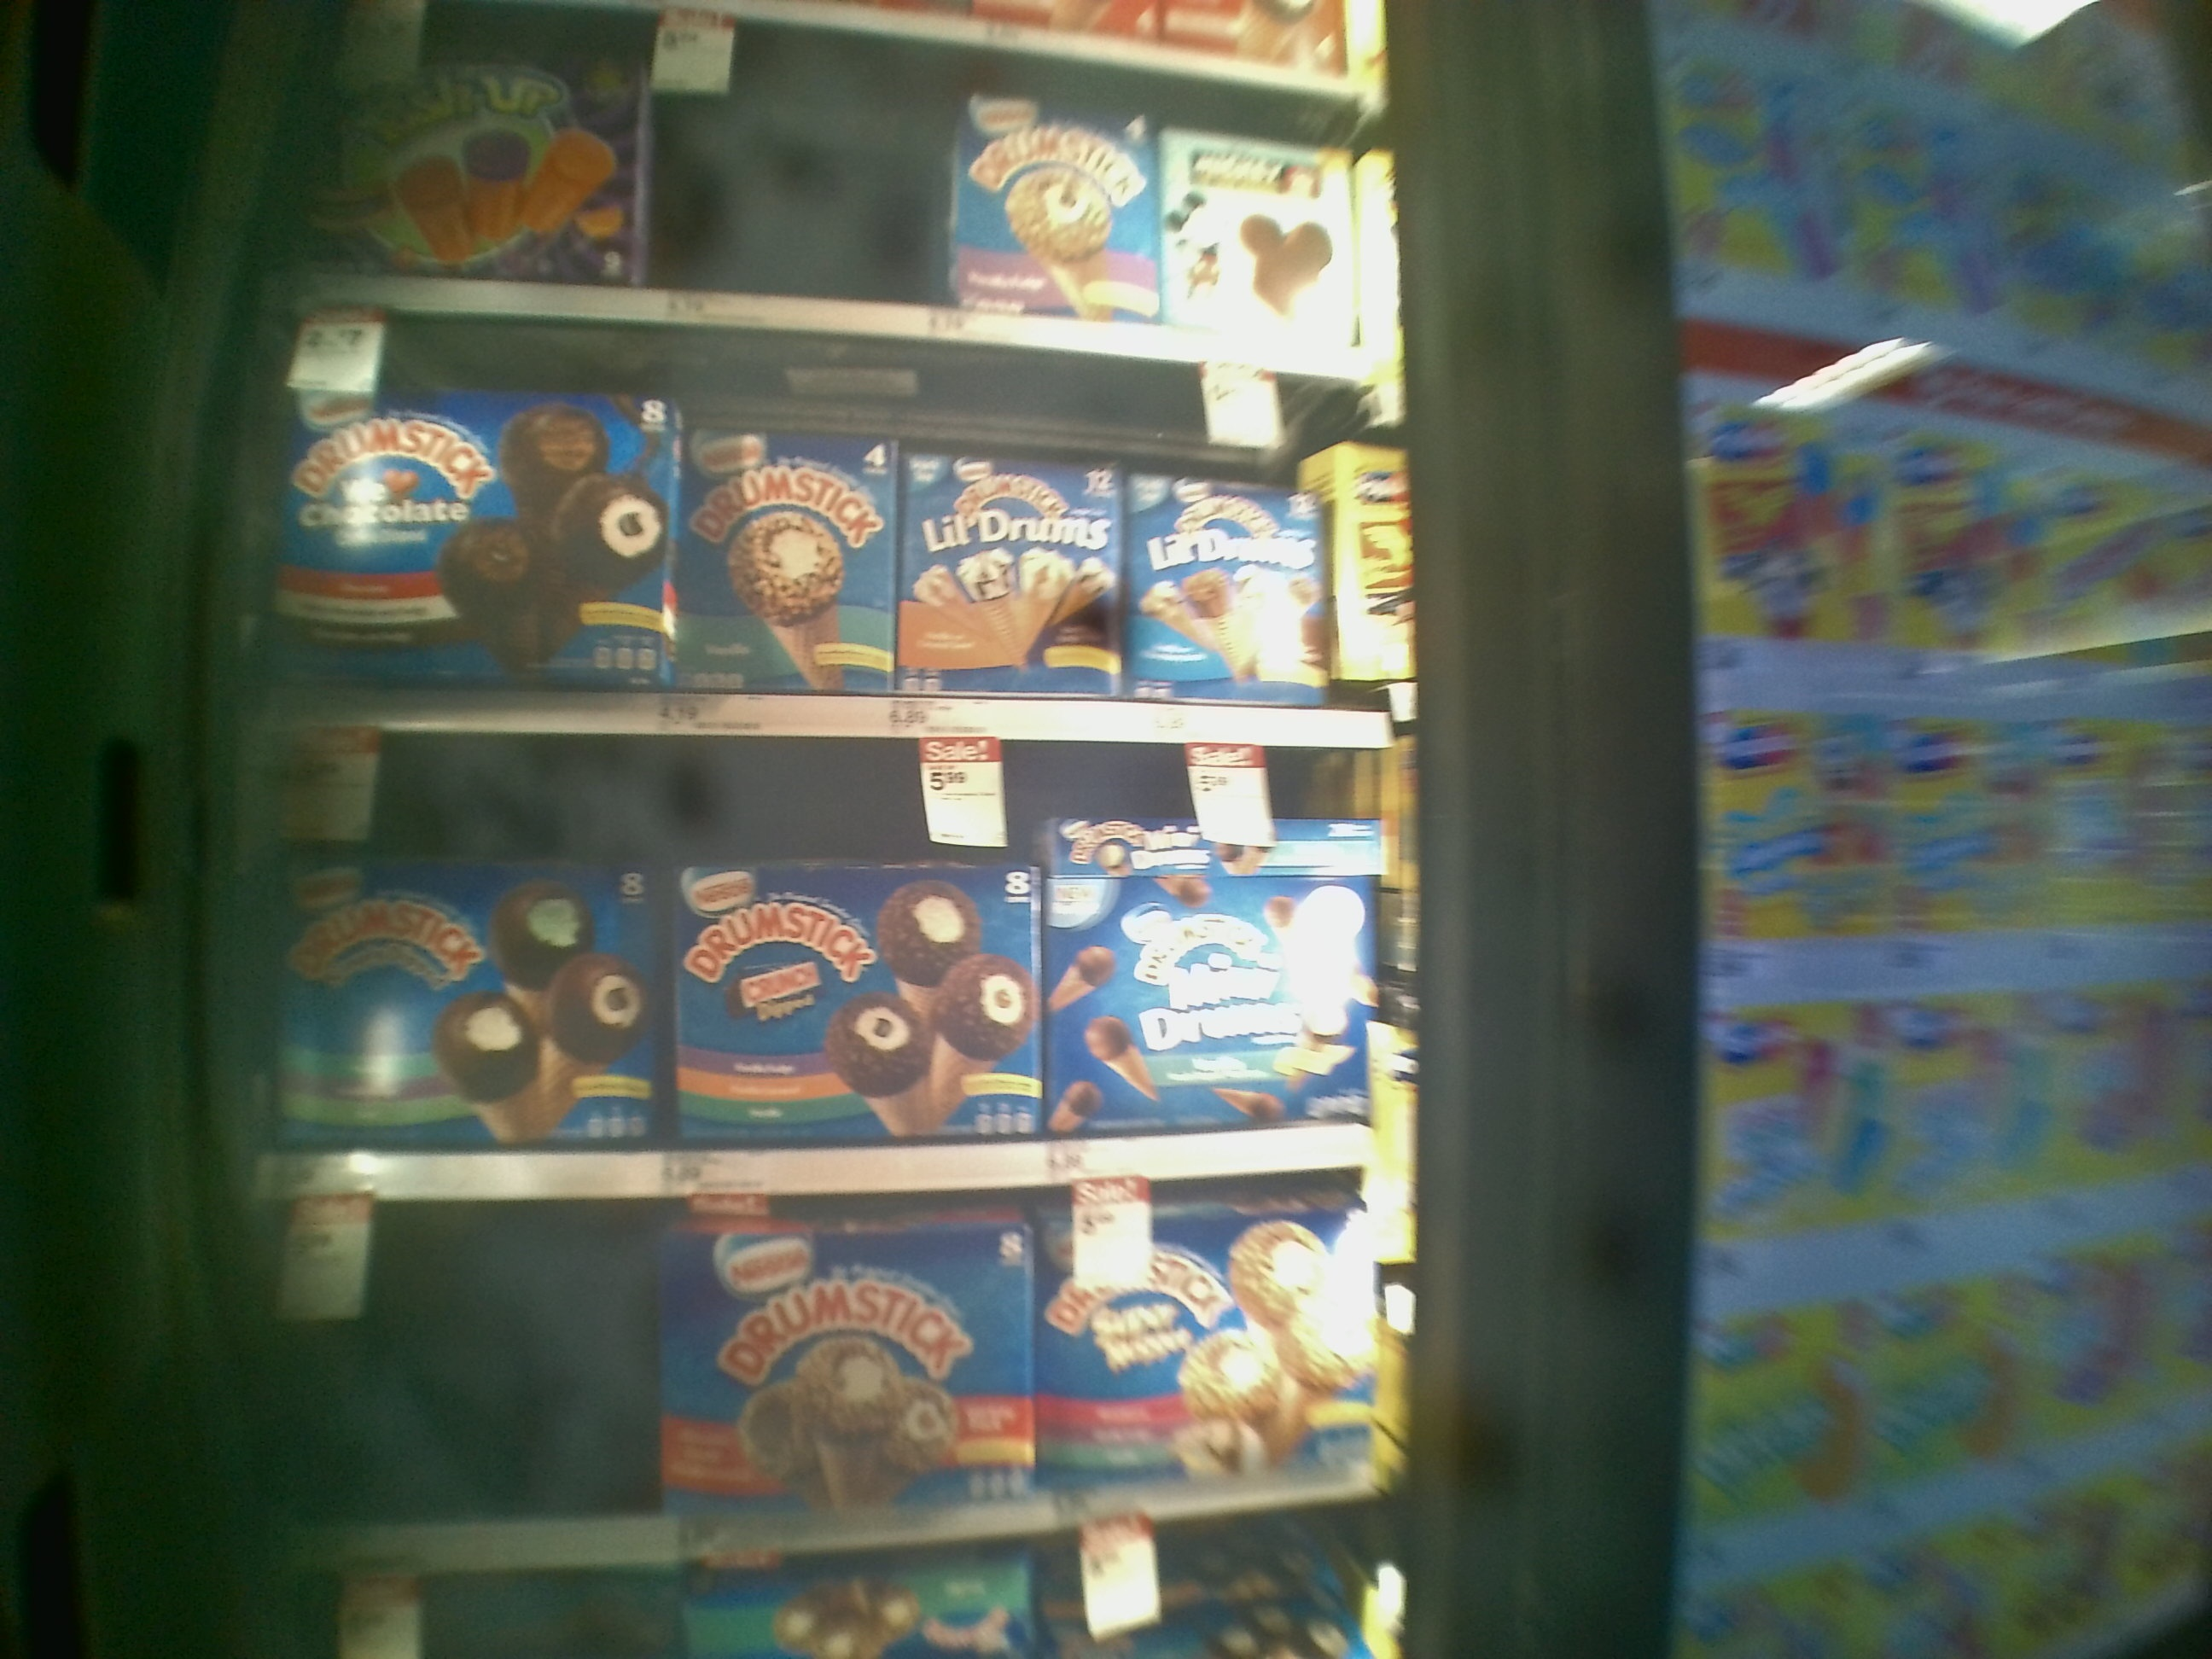shelf: (254, 737, 1400, 1195), (239, 1171, 1444, 1572), (258, 319, 1406, 739)
